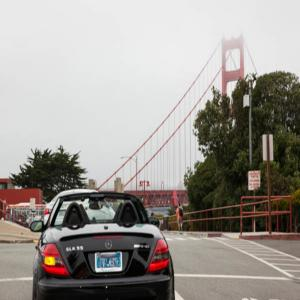Vehicle-registration-plate: (96, 252, 124, 275)
